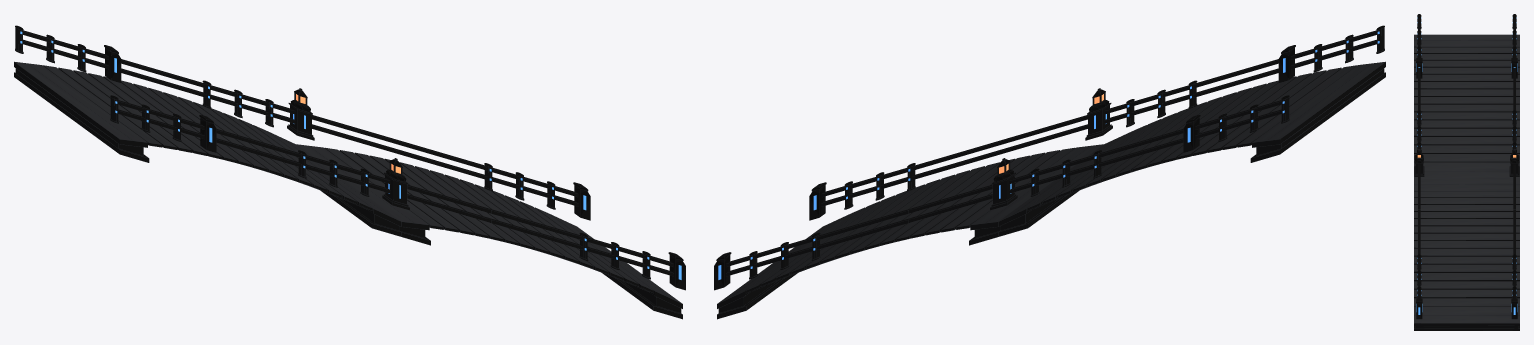
File: bridge_experiences_contact.glb
3 renders of one model, left to right at view 1: azimuth 30°, elevation 25°; view 2: azimuth 150°, elevation 25°; view 3: azimuth 270°, elevation 25°, orthographic. The views are drawn at different scales.
Visible parts, largest first — view 1: bridge; view 2: bridge; view 3: bridge.
Part boxes in pixels (x1,y1,x2,y2): bridge: (14,25,685,319); bridge: (714,25,1385,319); bridge: (1414,14,1519,330).
Size of the model in its own units: 6.24 by 3.73 by 2.
Materials: 5 (3 with a texture image).
